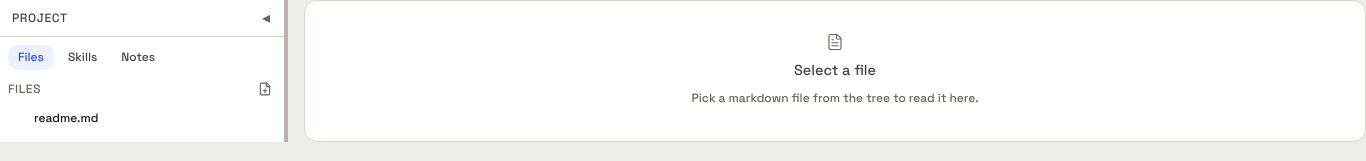
Test: <Station /> › edit mode › Edit mounts MarkdownEditor for the selected file, with the absolute path built from root_path
This screenshot has width=1366, height=161.
Click the button "readme.md" at point(140, 118), box [34,111,247,126]
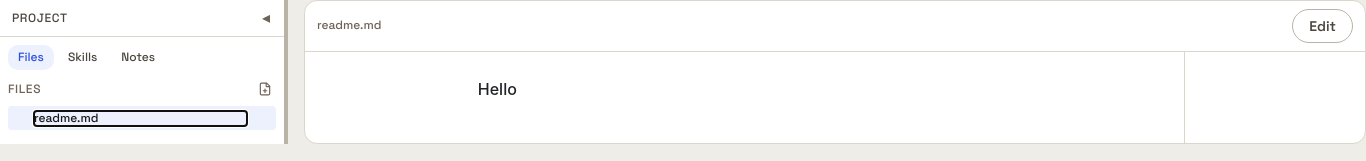
Expected: the text "Hello" is shown, [478,79,517,99]
Click the button "Edit" at point(1323, 26), box [1292,9,1353,43]
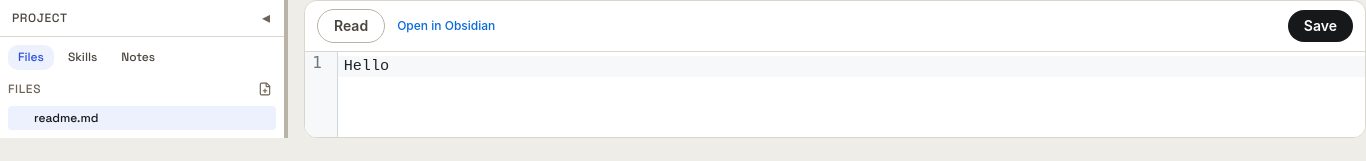
Expected: the element with test id "markdown-editor" is shown
